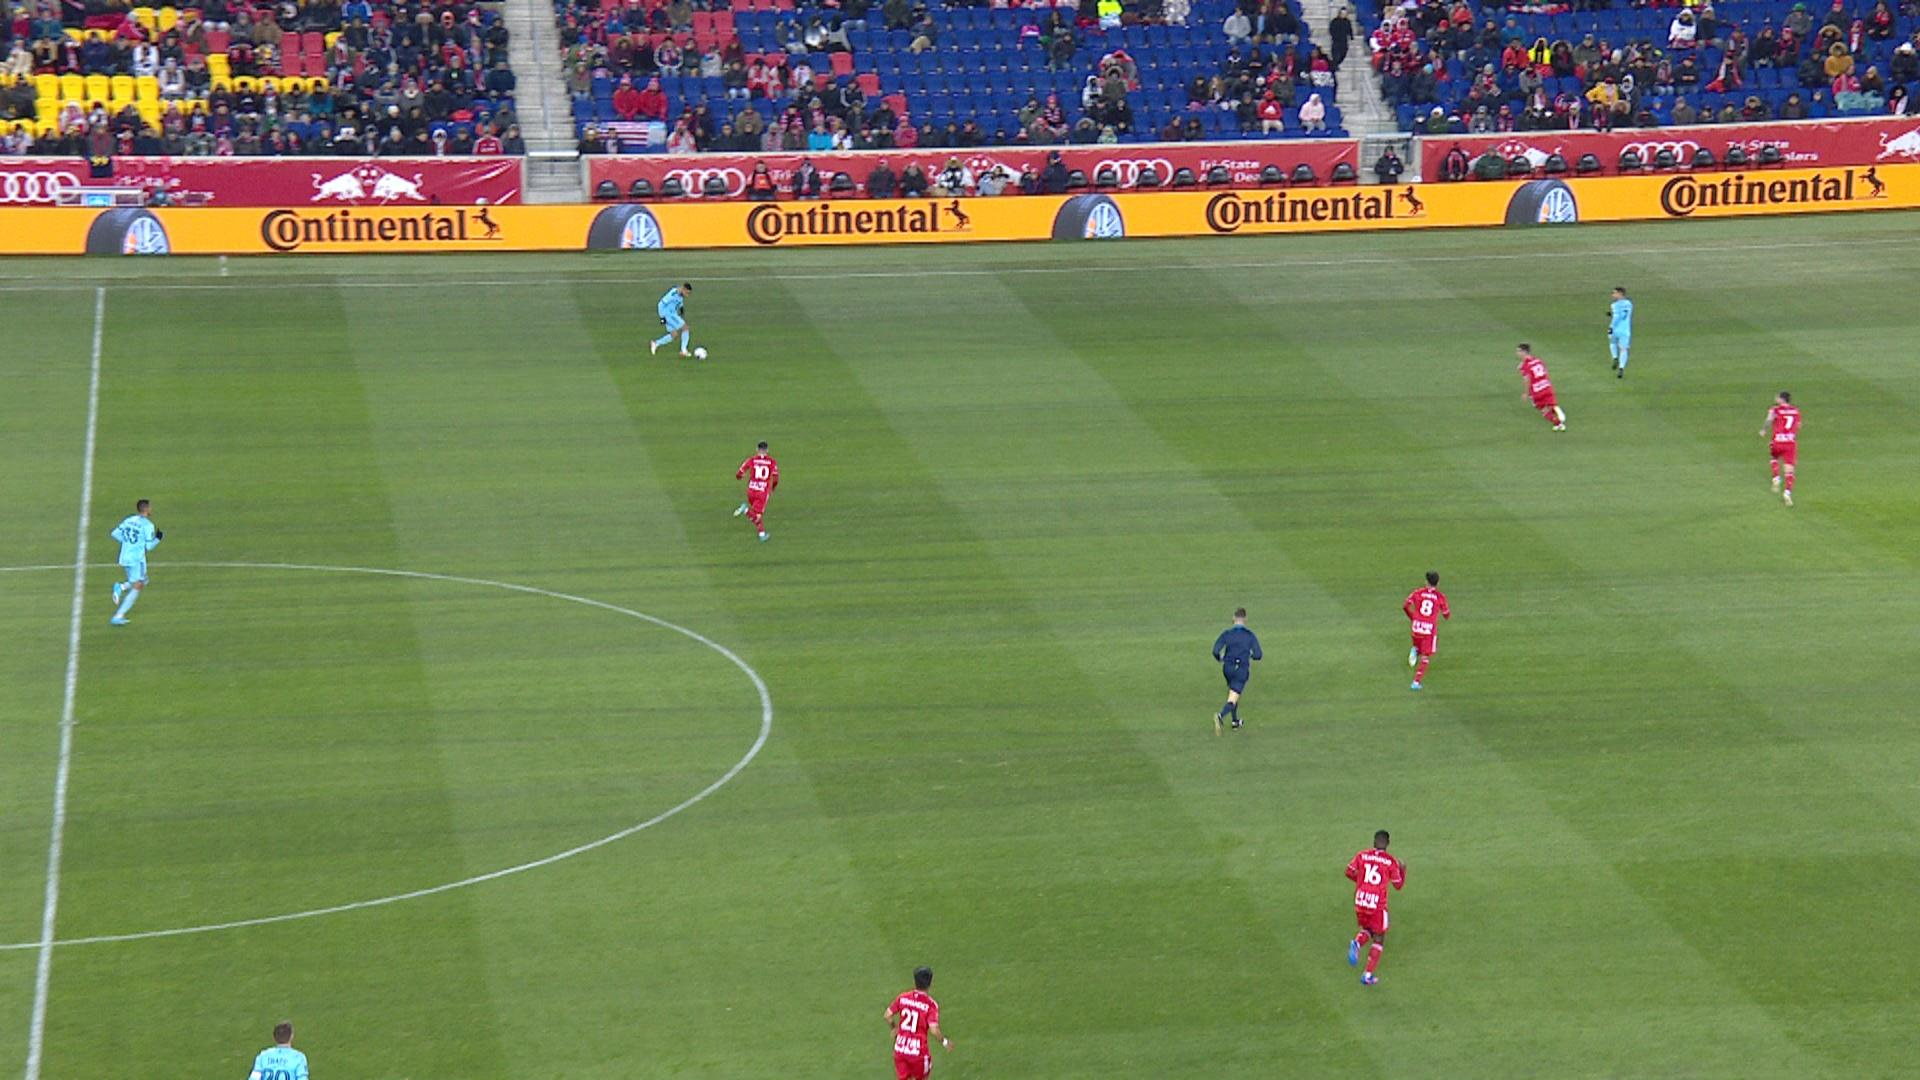football: (694, 346, 709, 361)
